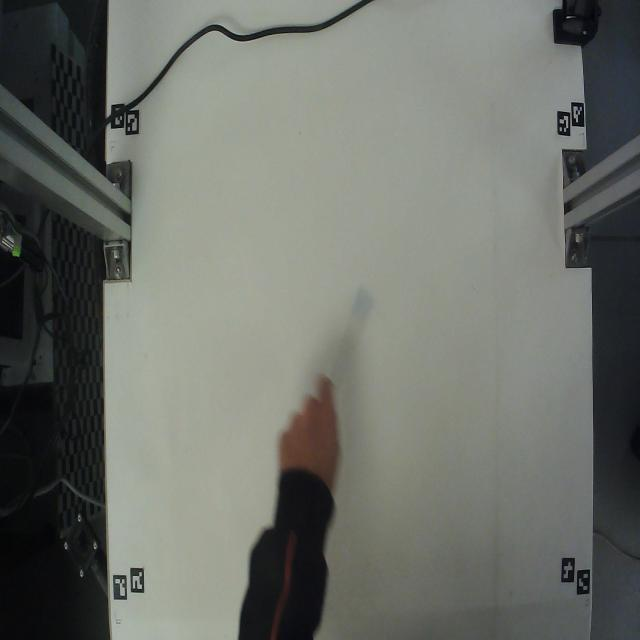NoPres: (333, 267, 378, 409)
